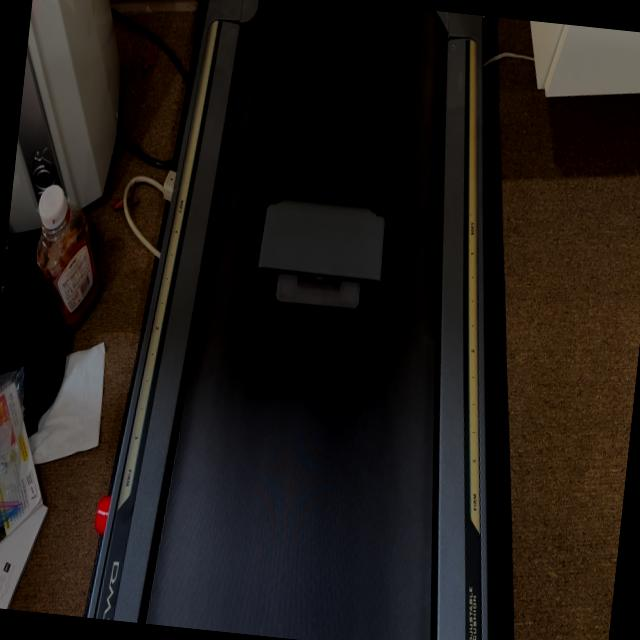Trash: (252, 193, 389, 314)
